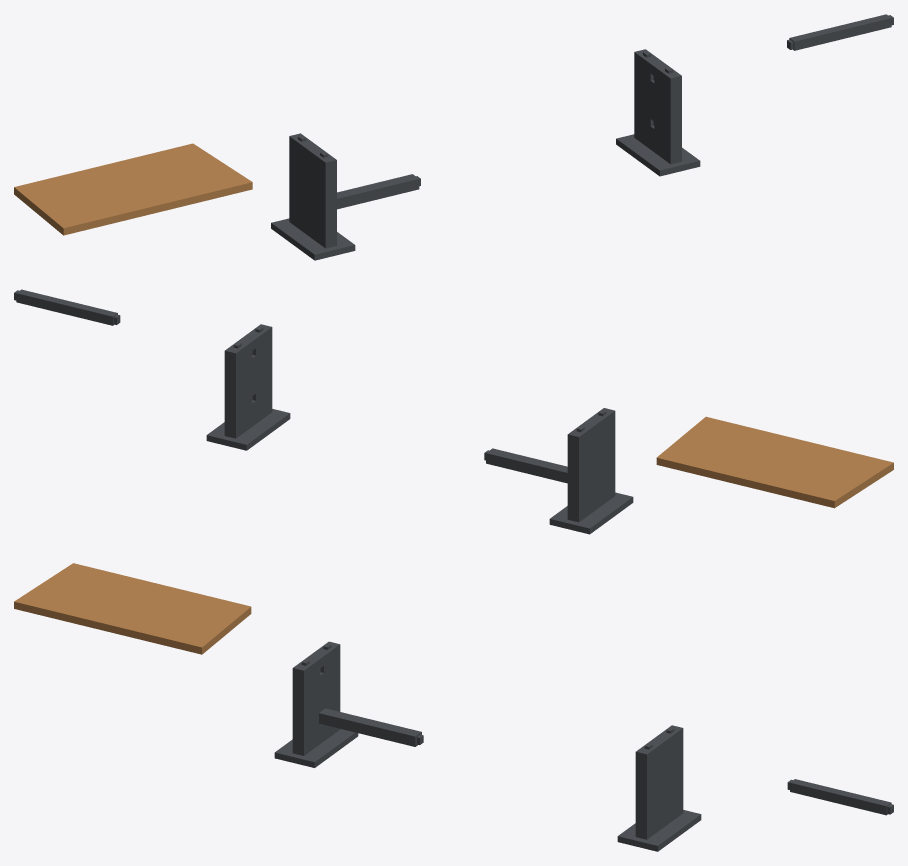
Rendered from exploded.glb.
3 views of the same model, one above another, from view 1: azimuth 30°, elevation 25°; view 2: azimuth 150°, elevation 25°; view 3: azimuth 330°, elevation 25° (orthographic).
Visible parts, largest first — view 1: tabletop_mesh, left_pedestal_lower_brace_mesh, right_pedestal_mesh, upper_brace_mesh; view 2: tabletop_mesh, left_pedestal_lower_brace_mesh, right_pedestal_mesh, upper_brace_mesh; view 3: tabletop_mesh, left_pedestal_lower_brace_mesh, right_pedestal_mesh, upper_brace_mesh.
Boxes of the visible parts, <box> form: tabletop_mesh: <box>14,143,252,235</box>; left_pedestal_lower_brace_mesh: <box>271,133,420,260</box>; right_pedestal_mesh: <box>616,49,700,176</box>; upper_brace_mesh: <box>787,14,893,50</box>; tabletop_mesh: <box>656,416,893,508</box>; left_pedestal_lower_brace_mesh: <box>484,408,633,534</box>; right_pedestal_mesh: <box>206,324,290,450</box>; upper_brace_mesh: <box>14,289,120,325</box>; tabletop_mesh: <box>14,563,251,654</box>; left_pedestal_lower_brace_mesh: <box>274,641,423,767</box>; right_pedestal_mesh: <box>617,725,701,851</box>; upper_brace_mesh: <box>787,779,893,815</box>.
Size of the model in its own units: 6785 by 750 by 750.
